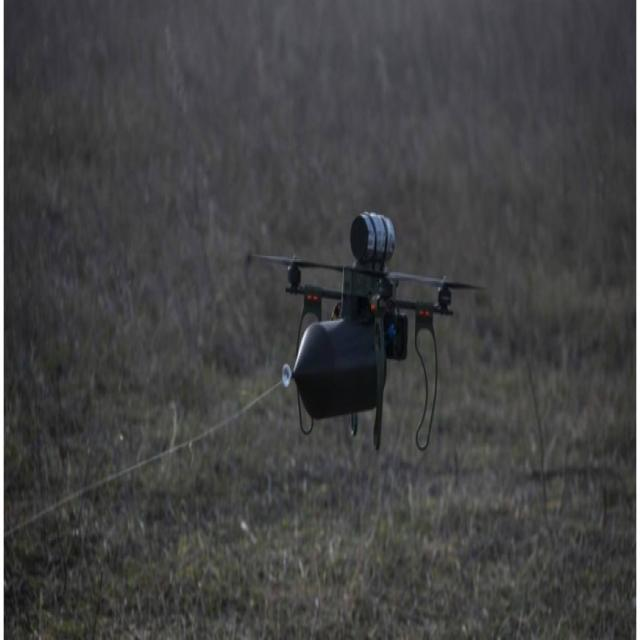drone: (245, 205, 489, 453)
